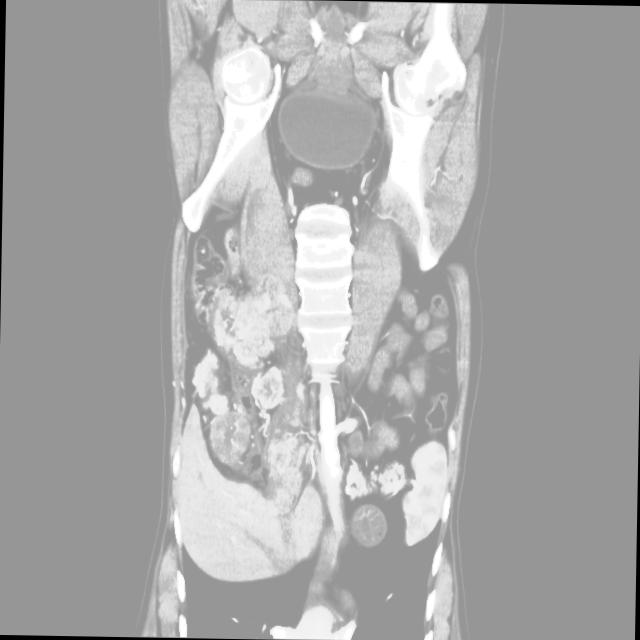TUMOR: (147, 170, 479, 432)
